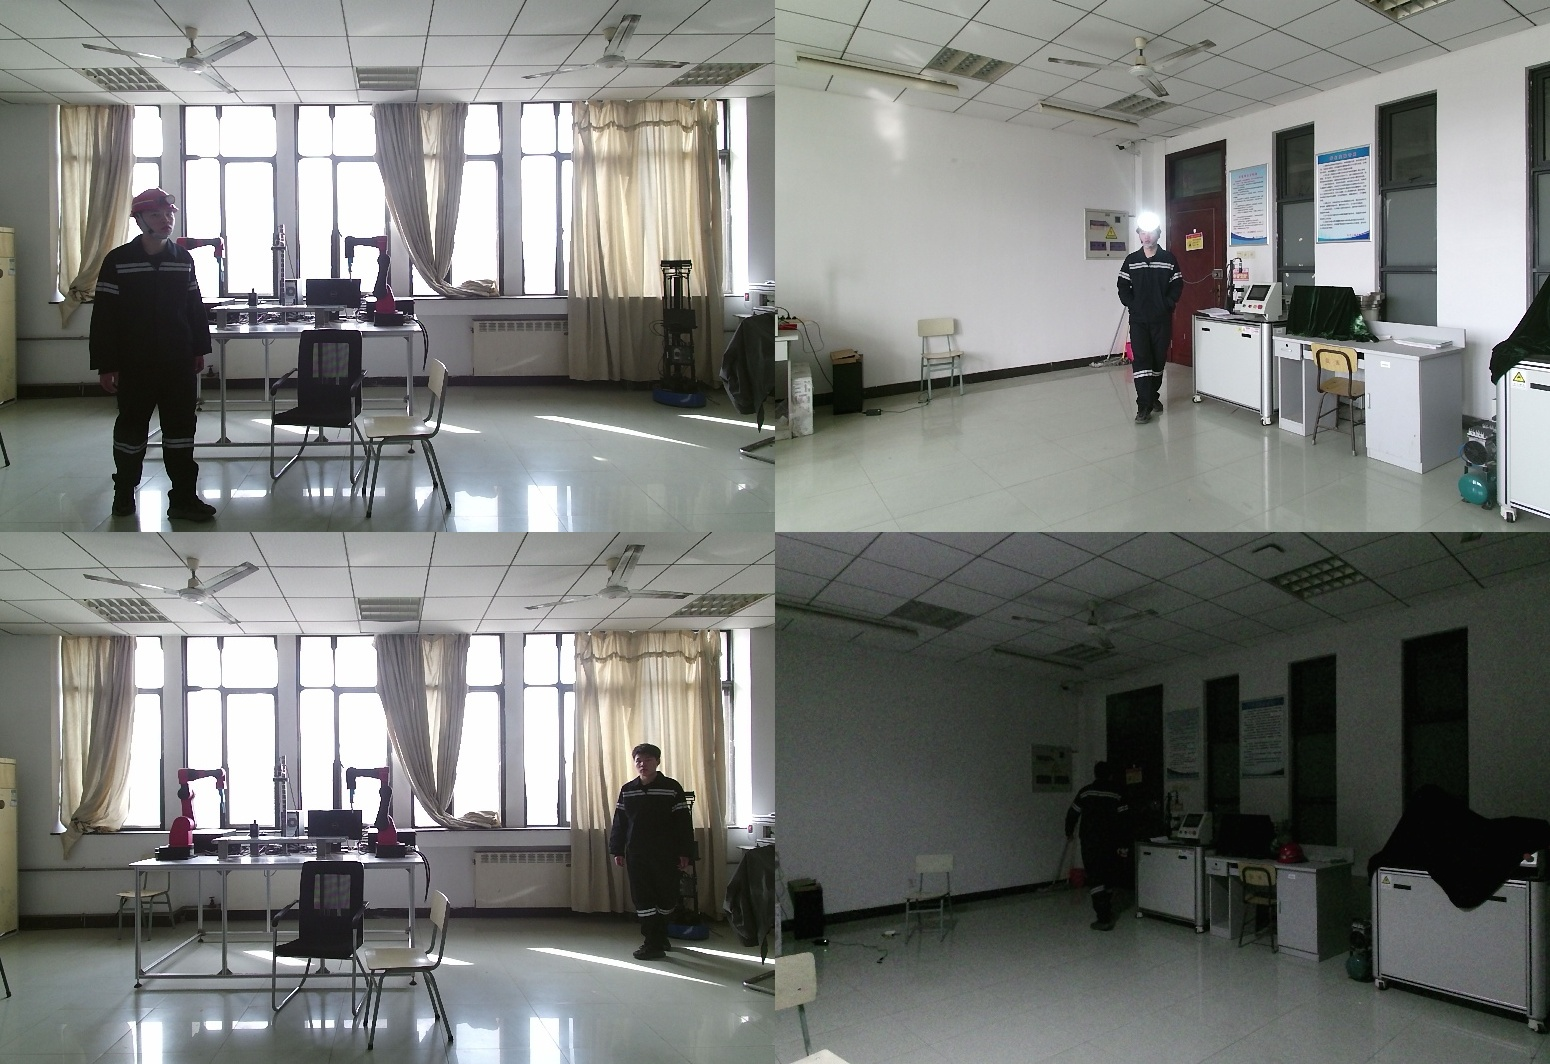person: (84, 187, 217, 532), (614, 745, 706, 962), (1114, 221, 1189, 429), (1064, 764, 1138, 943)
